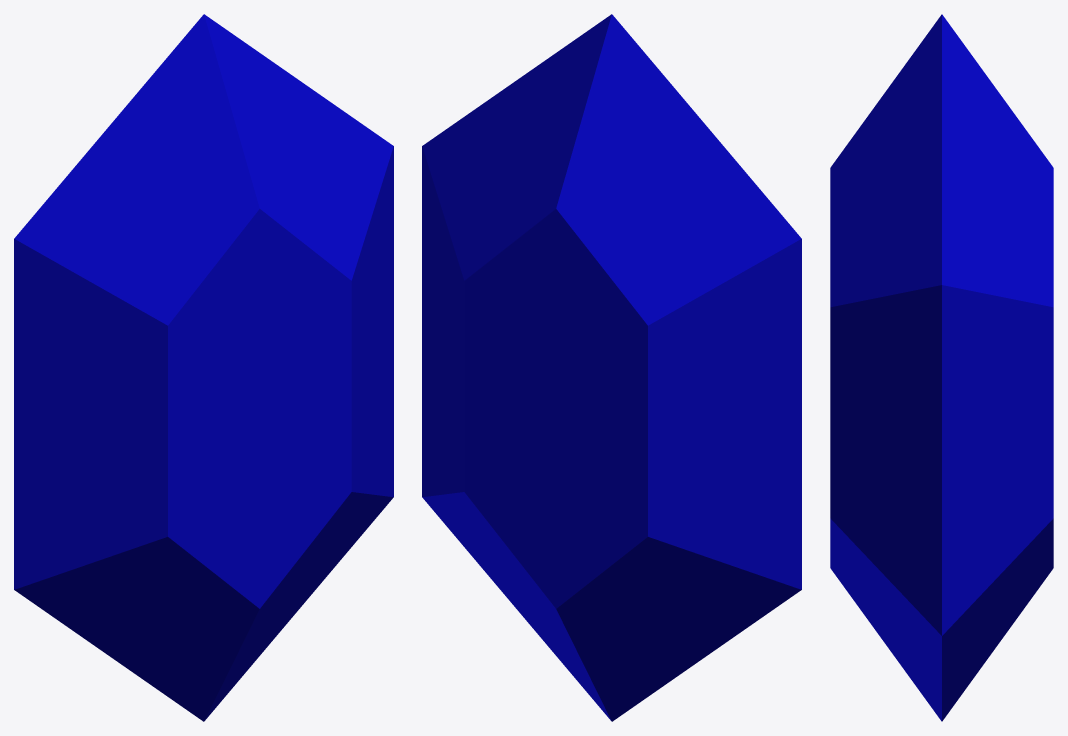
The model's file is rupees.fbx.
3 renders of one model, left to right at view 1: azimuth 30°, elevation 25°; view 2: azimuth 150°, elevation 25°; view 3: azimuth 270°, elevation 25°, orthographic.
Visible parts, largest first — view 1: Gem; view 2: Gem; view 3: Gem.
Part boxes in pixels (box(x1,y1,x2,y2)): Gem: box(14, 14, 393, 721); Gem: box(422, 14, 801, 721); Gem: box(830, 14, 1053, 721).
Size of the model in its own units: 178 by 318 by 90.78.
